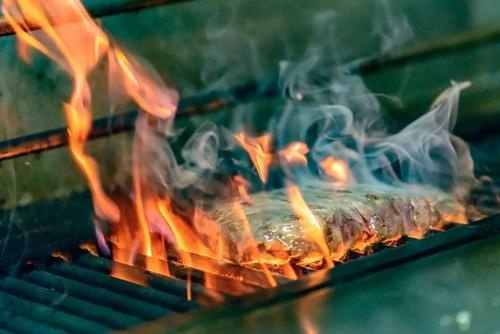fire: (64, 117, 357, 294), (0, 0, 179, 262), (298, 285, 329, 332)
